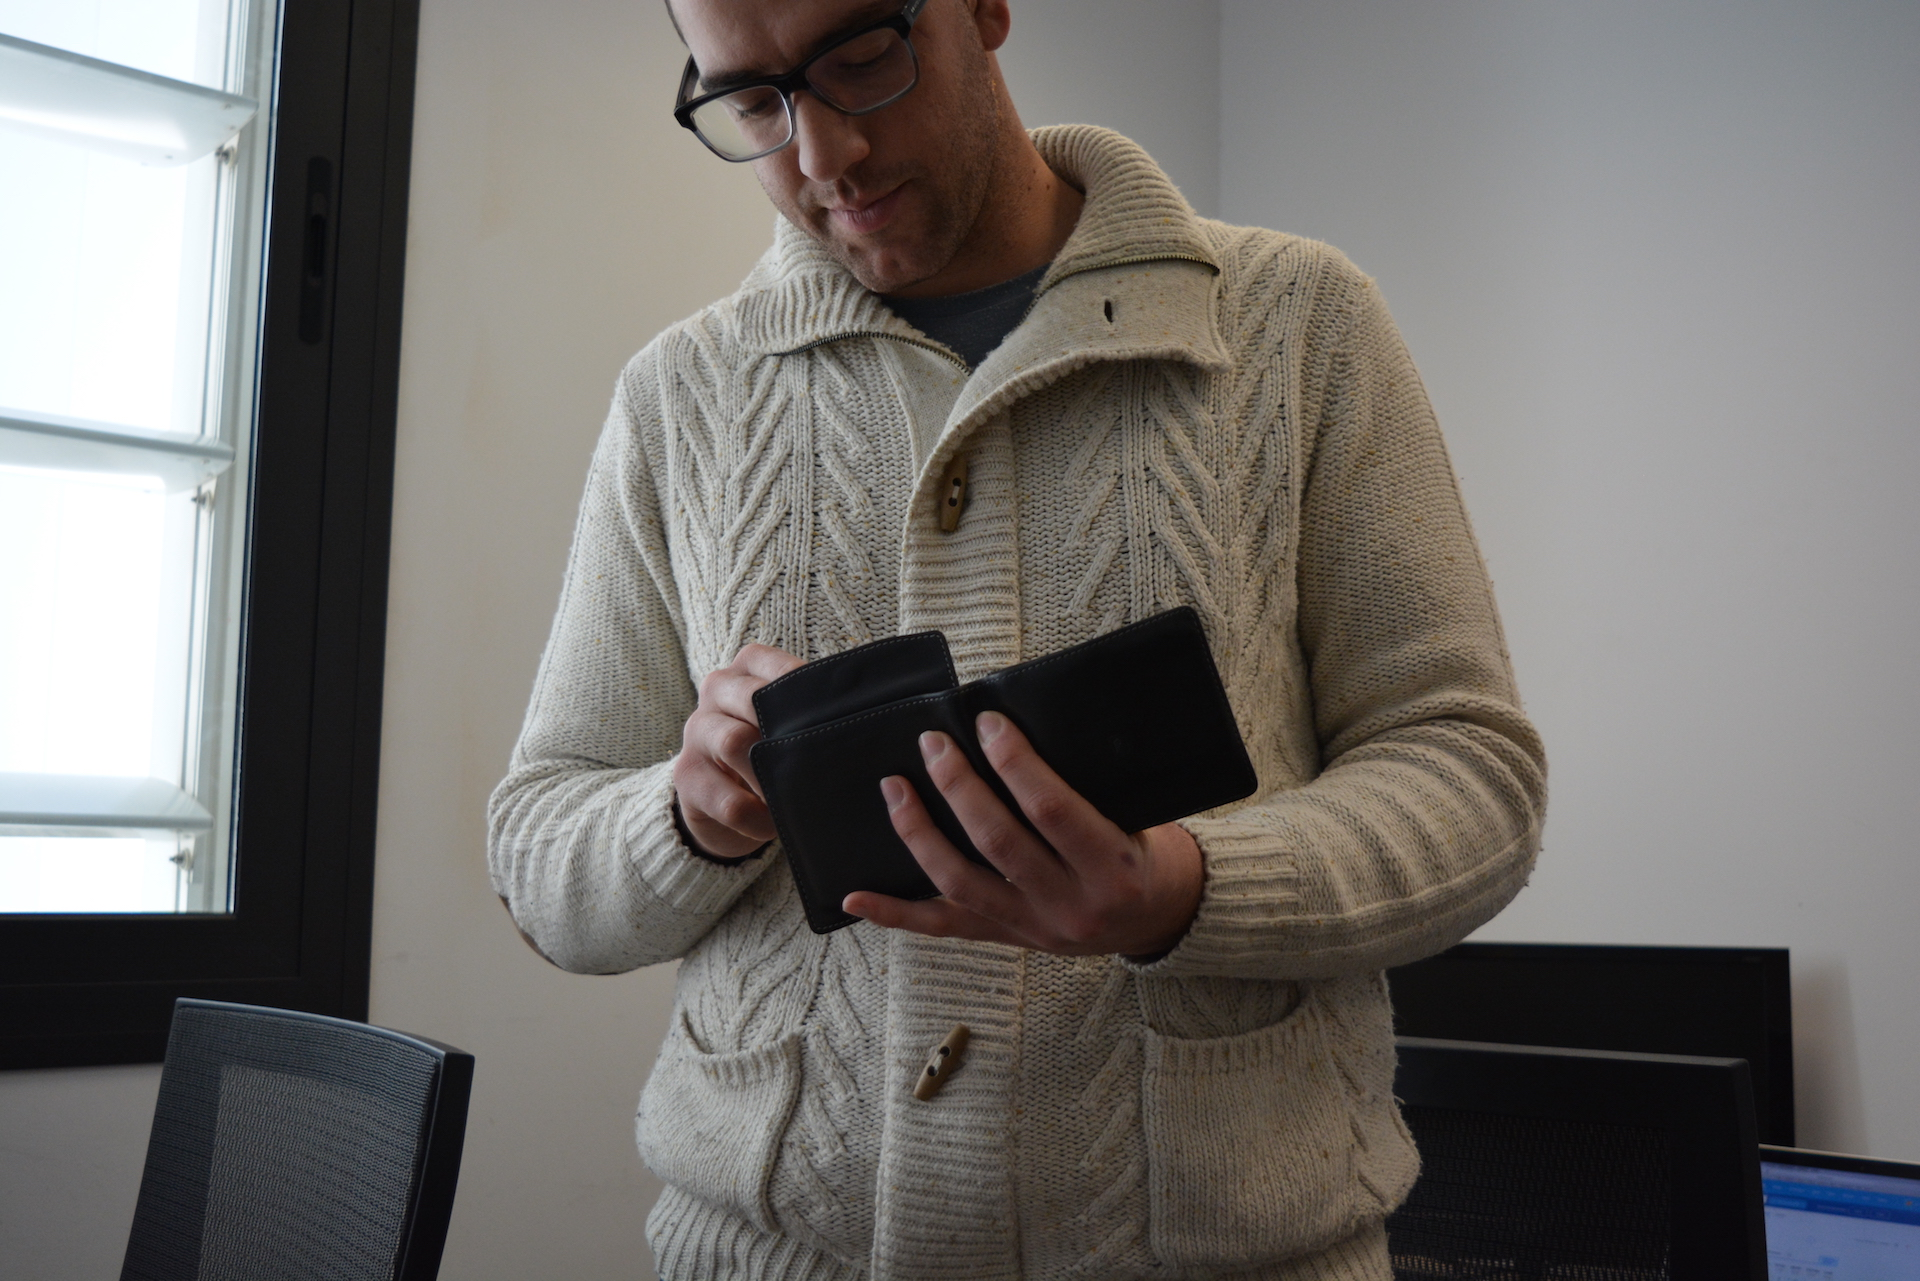monedero: (748, 602, 1261, 938)
